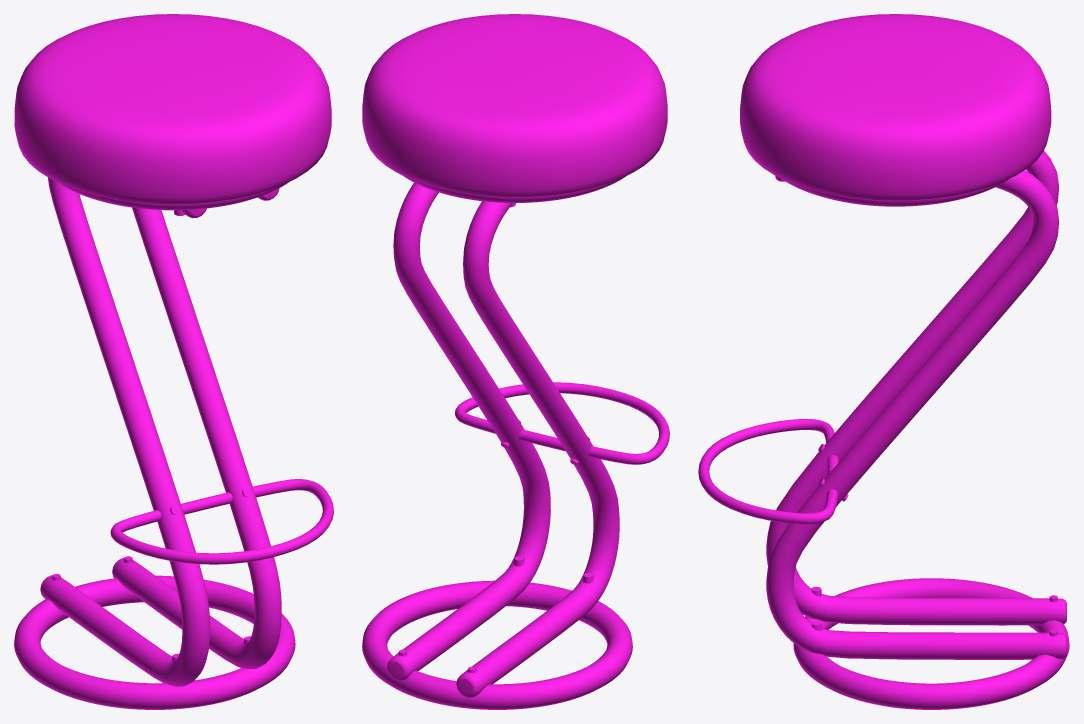
3 views of the same model, side by side, from view 1: azimuth 30°, elevation 25°; view 2: azimuth 150°, elevation 25°; view 3: azimuth 270°, elevation 25° (orthographic). The views are drawn at different scales.
Visible parts, largest first — view 1: Bar_Chair_Cube.001; view 2: Bar_Chair_Cube.001; view 3: Bar_Chair_Cube.001.
Part boxes in pixels (bbox=[...]): Bar_Chair_Cube.001: bbox=[14, 14, 333, 709]; Bar_Chair_Cube.001: bbox=[362, 14, 669, 709]; Bar_Chair_Cube.001: bbox=[698, 14, 1069, 709].
Bounding box in the file's own units: 1.58 × 3.31 × 1.89.
